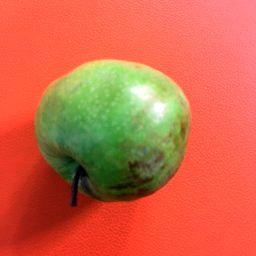apple: (14, 33, 210, 222)
